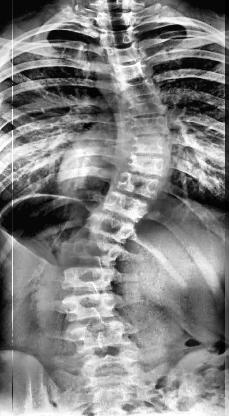Vertebrae: (68, 318, 132, 354), (60, 289, 122, 323), (82, 207, 136, 244), (67, 235, 124, 267), (60, 264, 119, 294), (100, 190, 152, 223), (114, 170, 168, 200), (116, 94, 168, 120), (121, 132, 173, 158), (124, 150, 170, 178), (111, 76, 159, 102), (119, 116, 172, 139), (103, 44, 145, 66), (99, 26, 139, 48), (110, 60, 148, 82)
